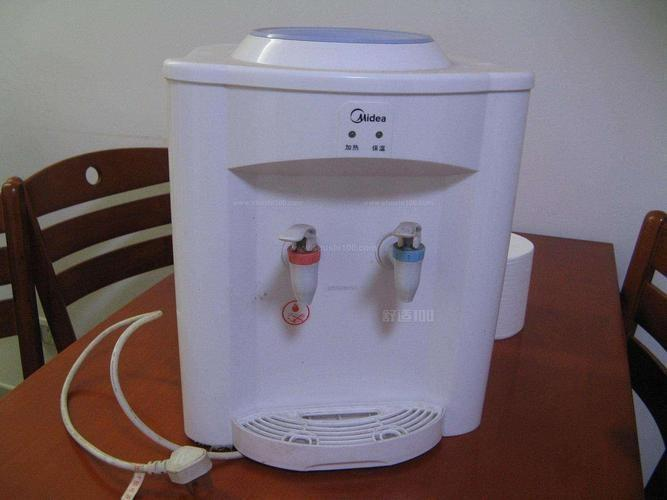Dispenser: (162, 24, 535, 471)
